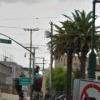Palm tree: (48, 9, 94, 75)
